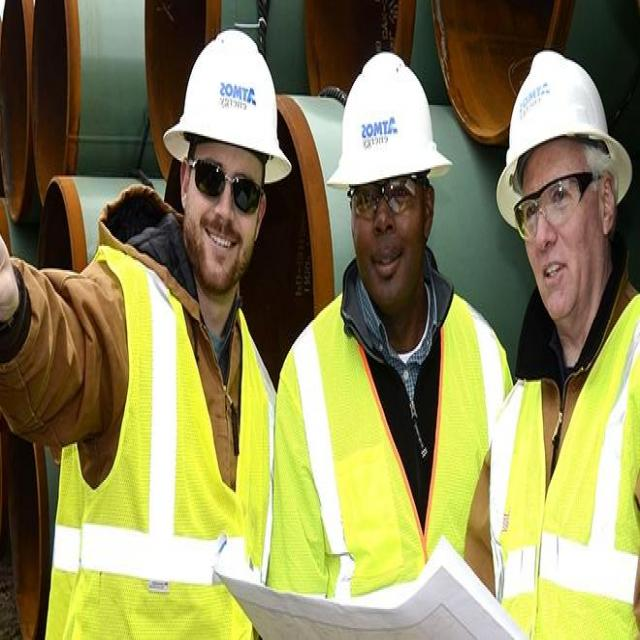Reflective-Jacket: (44, 249, 272, 636), (274, 294, 504, 620), (495, 291, 640, 640)
Safety-Helmet: (494, 46, 635, 212), (164, 22, 290, 182), (328, 46, 450, 195)
